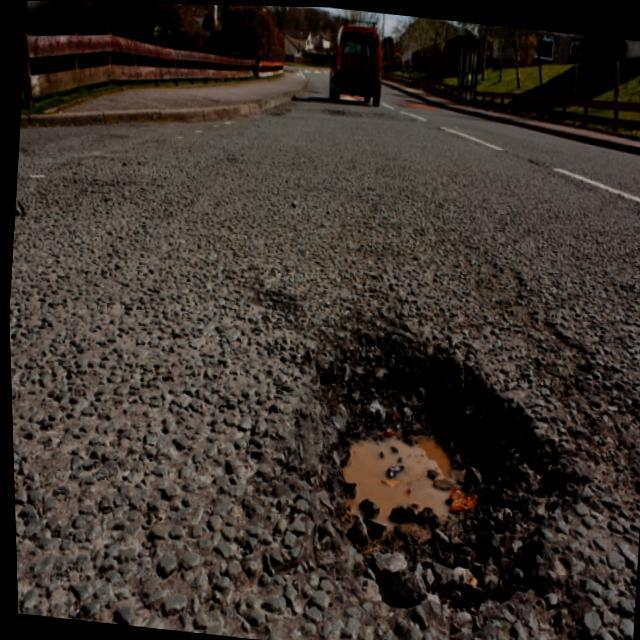Pothole: (316, 334, 553, 607)
